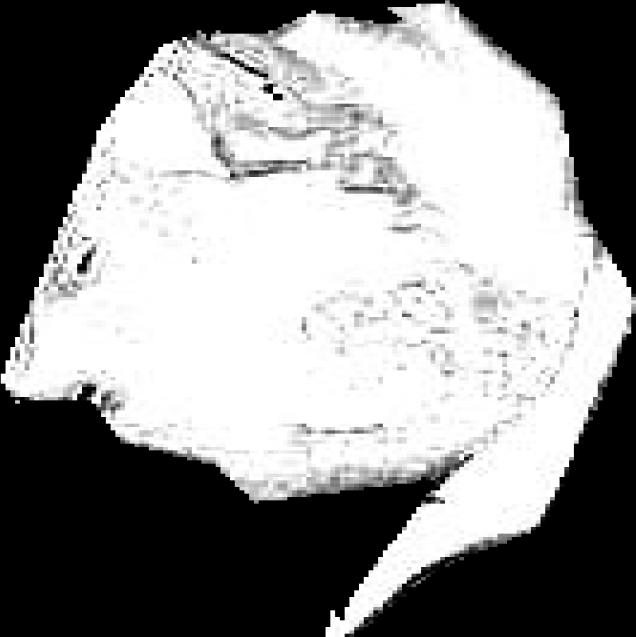tumor_moderate_chance: (1, 0, 636, 637)
